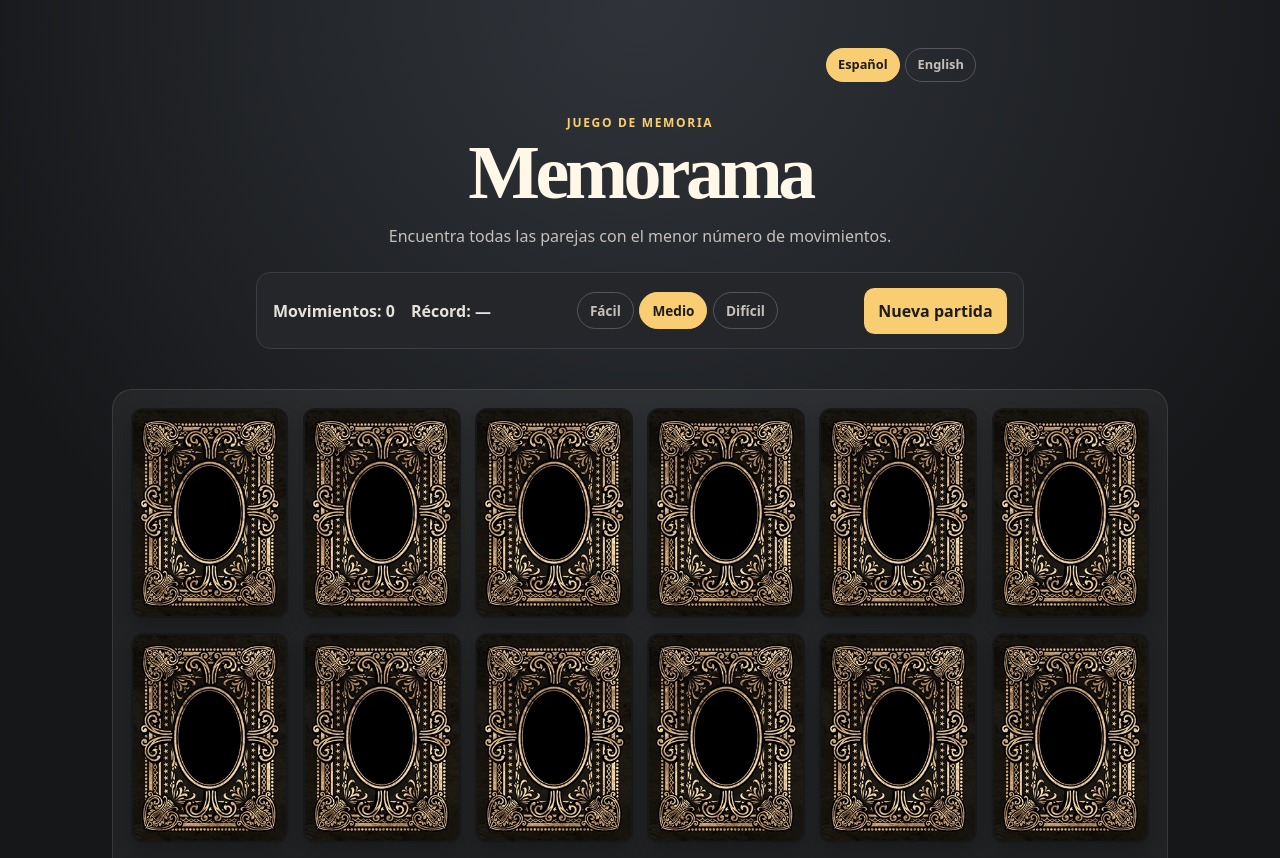
Test: App › switches the game interface and document metadata to English
Click the button "English".
click(941, 65)  # box [905, 48, 976, 82]
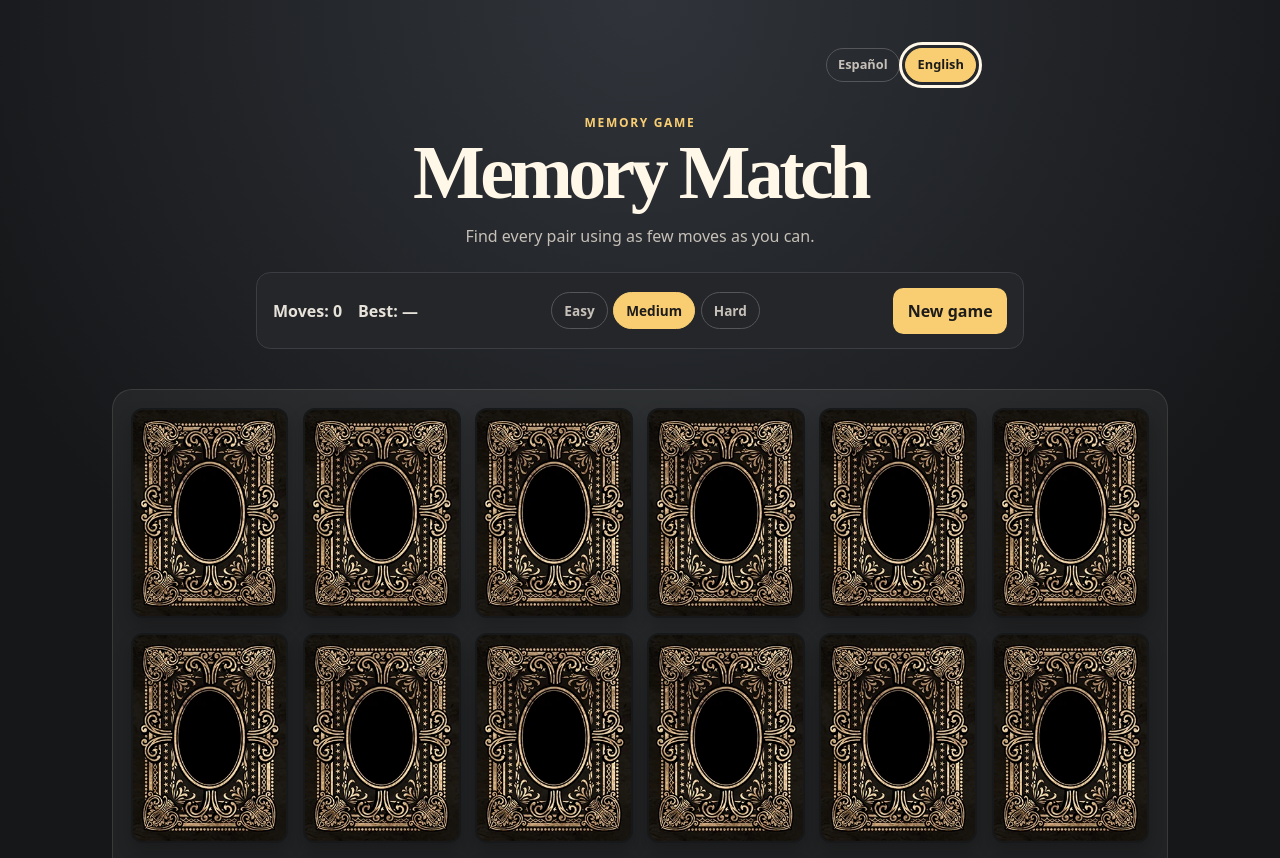
Result: the heading "Memory Match" is shown at [413, 130, 867, 214]
Result: the text "Find every pair using as few moves as you can." is shown at [466, 225, 814, 247]
Result: the text "Moves:" is shown at [273, 299, 342, 323]
Click the button "Español".
click(863, 65)  # box [826, 48, 900, 82]
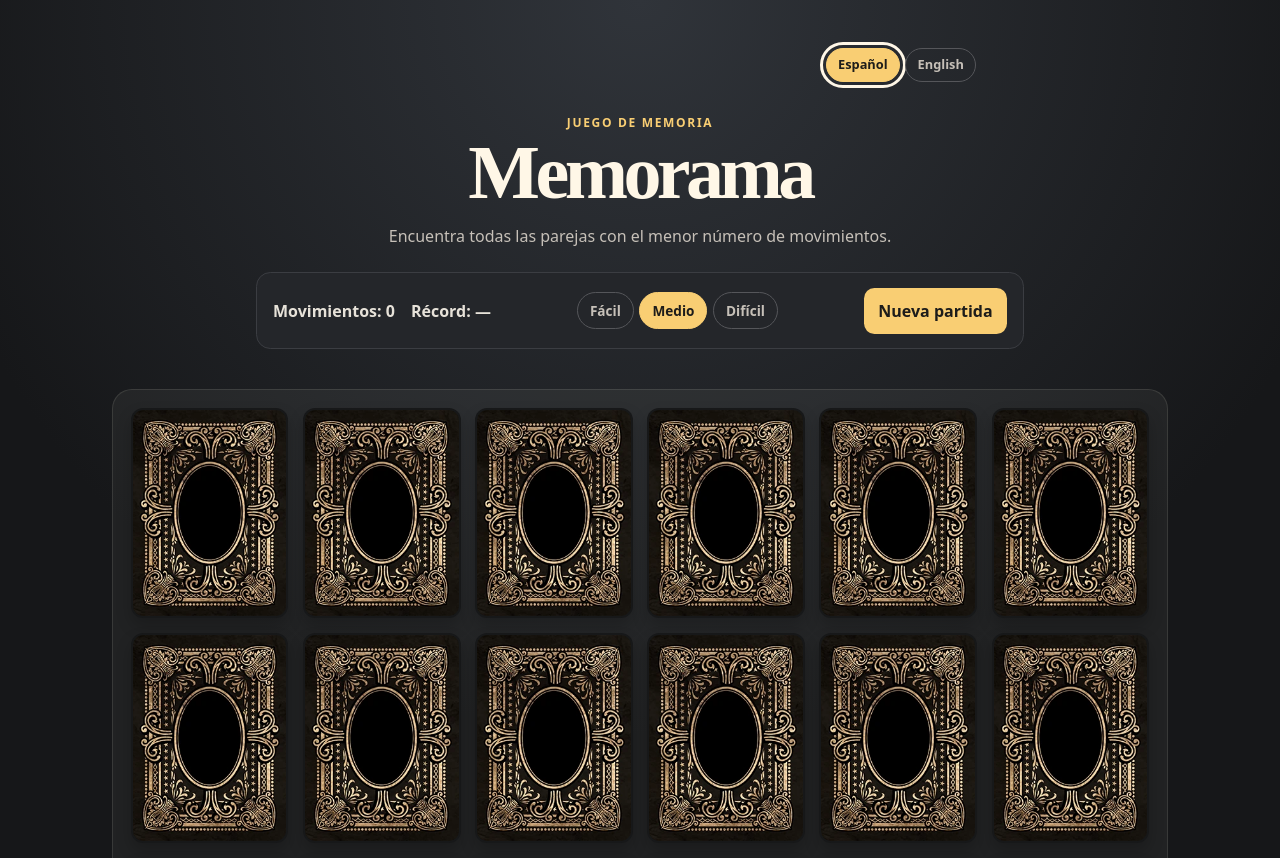
Result: the heading "Memorama" is shown at [468, 130, 812, 214]
